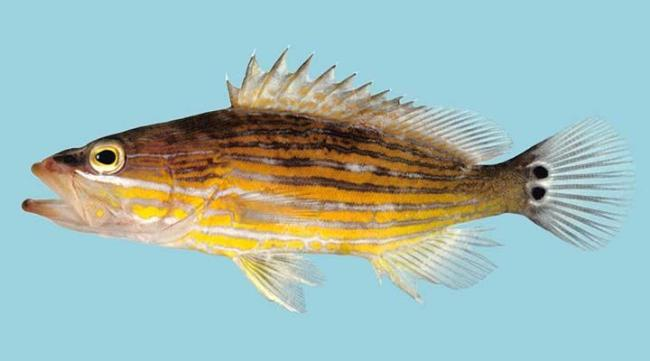fish: (23, 47, 628, 312)
